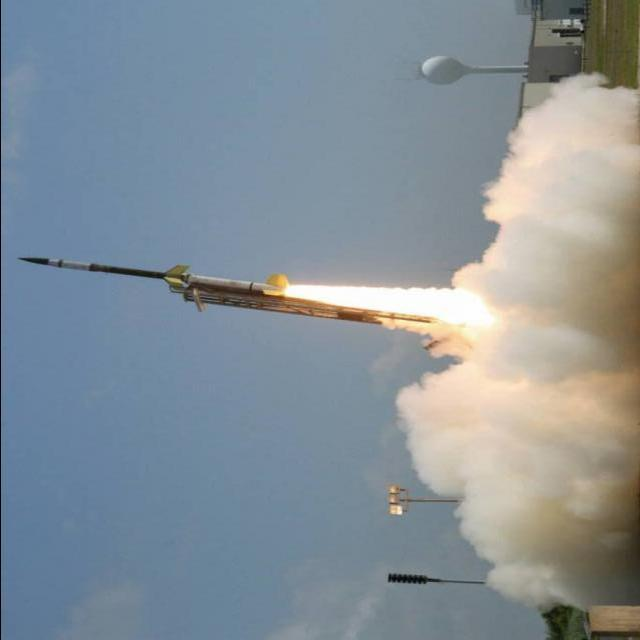Missile: (16, 253, 192, 295)
